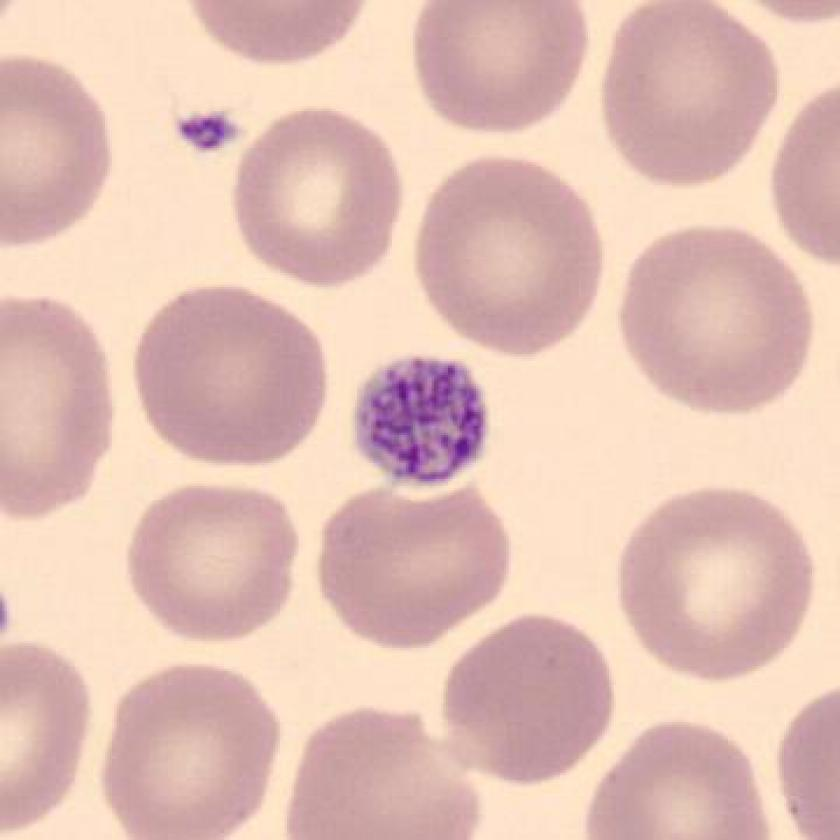platelets: (349, 346, 493, 496), (167, 100, 246, 170)
